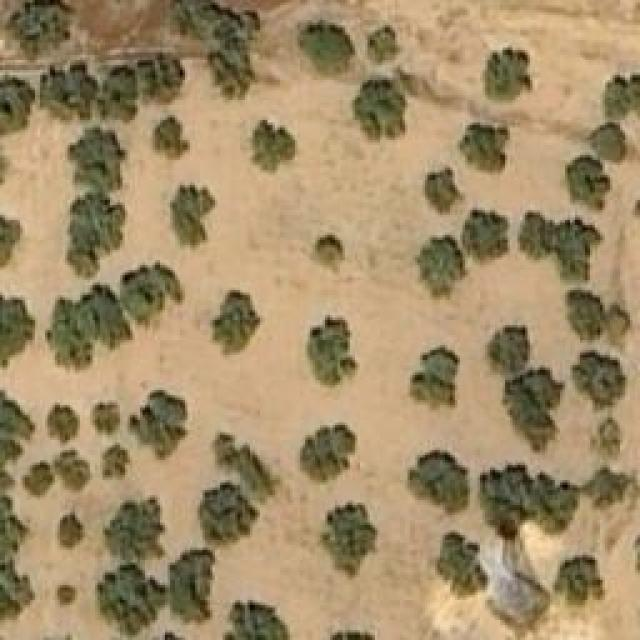Tree: (178, 2, 258, 100), (50, 283, 128, 373), (318, 500, 378, 580), (488, 468, 561, 533), (125, 390, 188, 463), (408, 450, 471, 515), (5, 0, 70, 60), (198, 483, 261, 543), (305, 318, 358, 388), (505, 370, 558, 438), (210, 290, 260, 360), (353, 80, 408, 143), (435, 533, 488, 598), (95, 570, 153, 628), (118, 268, 181, 321), (300, 423, 355, 483), (73, 133, 128, 193), (170, 182, 218, 250), (67, 198, 115, 263), (297, 20, 355, 73), (412, 345, 460, 408), (0, 292, 38, 370), (222, 597, 289, 640), (253, 115, 303, 170), (420, 238, 463, 301), (458, 123, 508, 176), (107, 500, 155, 555), (562, 288, 608, 342), (465, 210, 513, 258), (45, 64, 90, 115), (555, 218, 593, 278), (515, 208, 558, 261), (485, 48, 530, 98), (578, 353, 623, 403), (170, 558, 205, 621), (0, 387, 28, 465), (423, 165, 466, 215), (95, 70, 138, 120), (0, 75, 35, 135), (0, 560, 35, 620), (150, 113, 193, 158), (568, 160, 608, 208), (145, 52, 185, 100), (487, 325, 525, 375), (560, 558, 603, 601), (0, 495, 30, 553), (590, 118, 630, 161), (300, 235, 345, 273), (603, 70, 638, 118), (585, 473, 630, 506), (20, 460, 58, 498), (45, 402, 80, 440), (590, 420, 620, 460), (365, 23, 395, 63), (0, 212, 22, 265), (90, 402, 120, 440), (103, 443, 128, 483), (60, 450, 85, 488), (55, 515, 80, 550), (53, 585, 76, 603)
